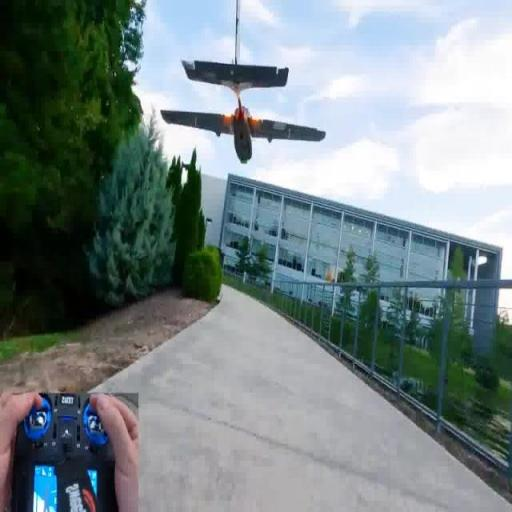uav: (157, 1, 332, 170)
